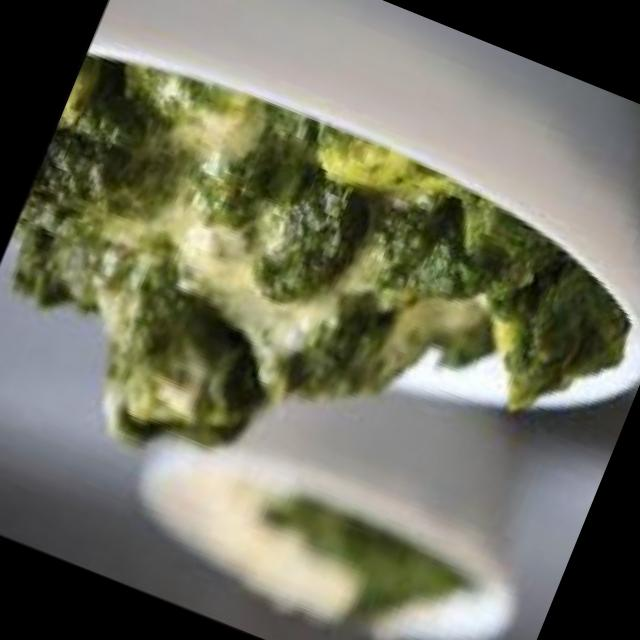palak_paneer: (0, 26, 640, 607)
